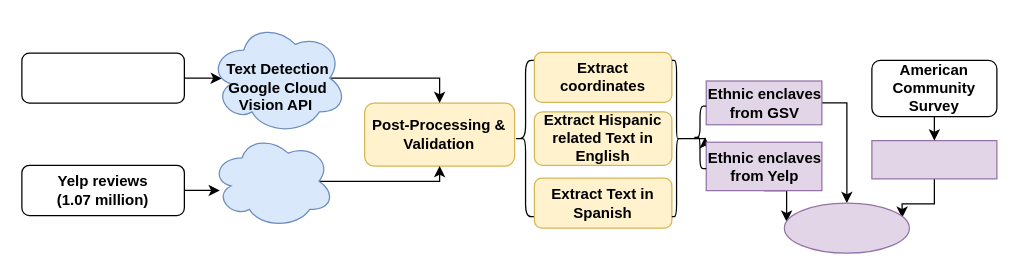
Image size: 1019x280. Some labels were removed from this diagram. The box of each missing label's shape, as (x1, y1, x2, y2) in pixels:
Google Street View images (853,821): (21, 52, 184, 103)
Hispanic ethnic density: (871, 139, 997, 179)
Language Detection: (210, 133, 334, 228)
Spatial Analysis: (783, 202, 909, 253)
